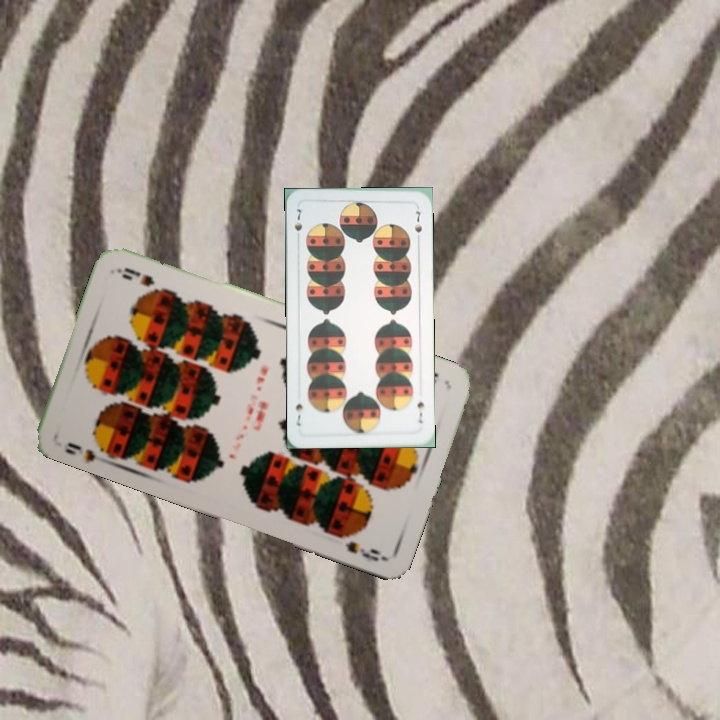S7: (290, 203, 304, 244), (413, 398, 426, 426)
S9: (60, 437, 113, 465)
